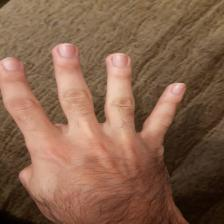four: (3, 43, 188, 215)
